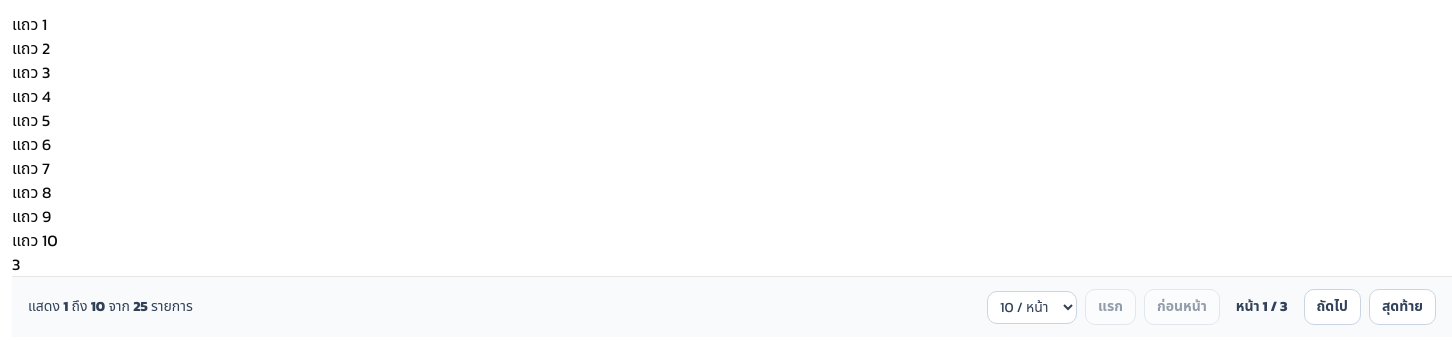
Test: usePagination › แสดงทีละหน้า และเลื่อนหน้าได้
This screenshot has width=1452, height=342.
Check: the list item "แถว 1" is shown, box x1=12 y1=12 x2=47 y2=36
Step 1. Click the button "สุดท้าย" → (1402, 307), box x1=1369 y1=289 x2=1436 y2=325
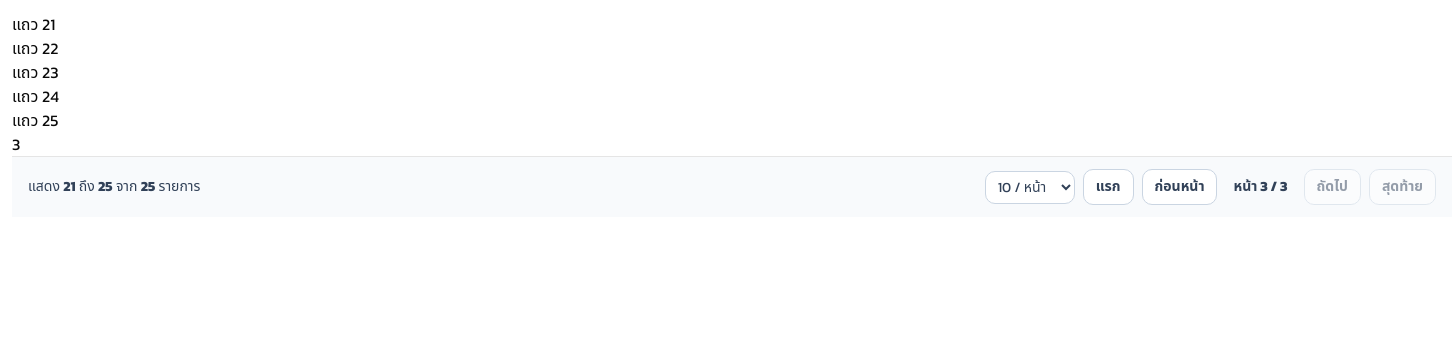
Check: the text with test id "page-of-25" reads "3", box x1=12 y1=132 x2=20 y2=156
Check: the number of list items is 5, box x1=12 y1=12 x2=55 y2=36; x1=12 y1=36 x2=58 y2=60; x1=12 y1=60 x2=58 y2=84; x1=12 y1=84 x2=59 y2=108; x1=12 y1=108 x2=58 y2=132
Check: the list item "แถว 25" is shown, box x1=12 y1=108 x2=58 y2=132
